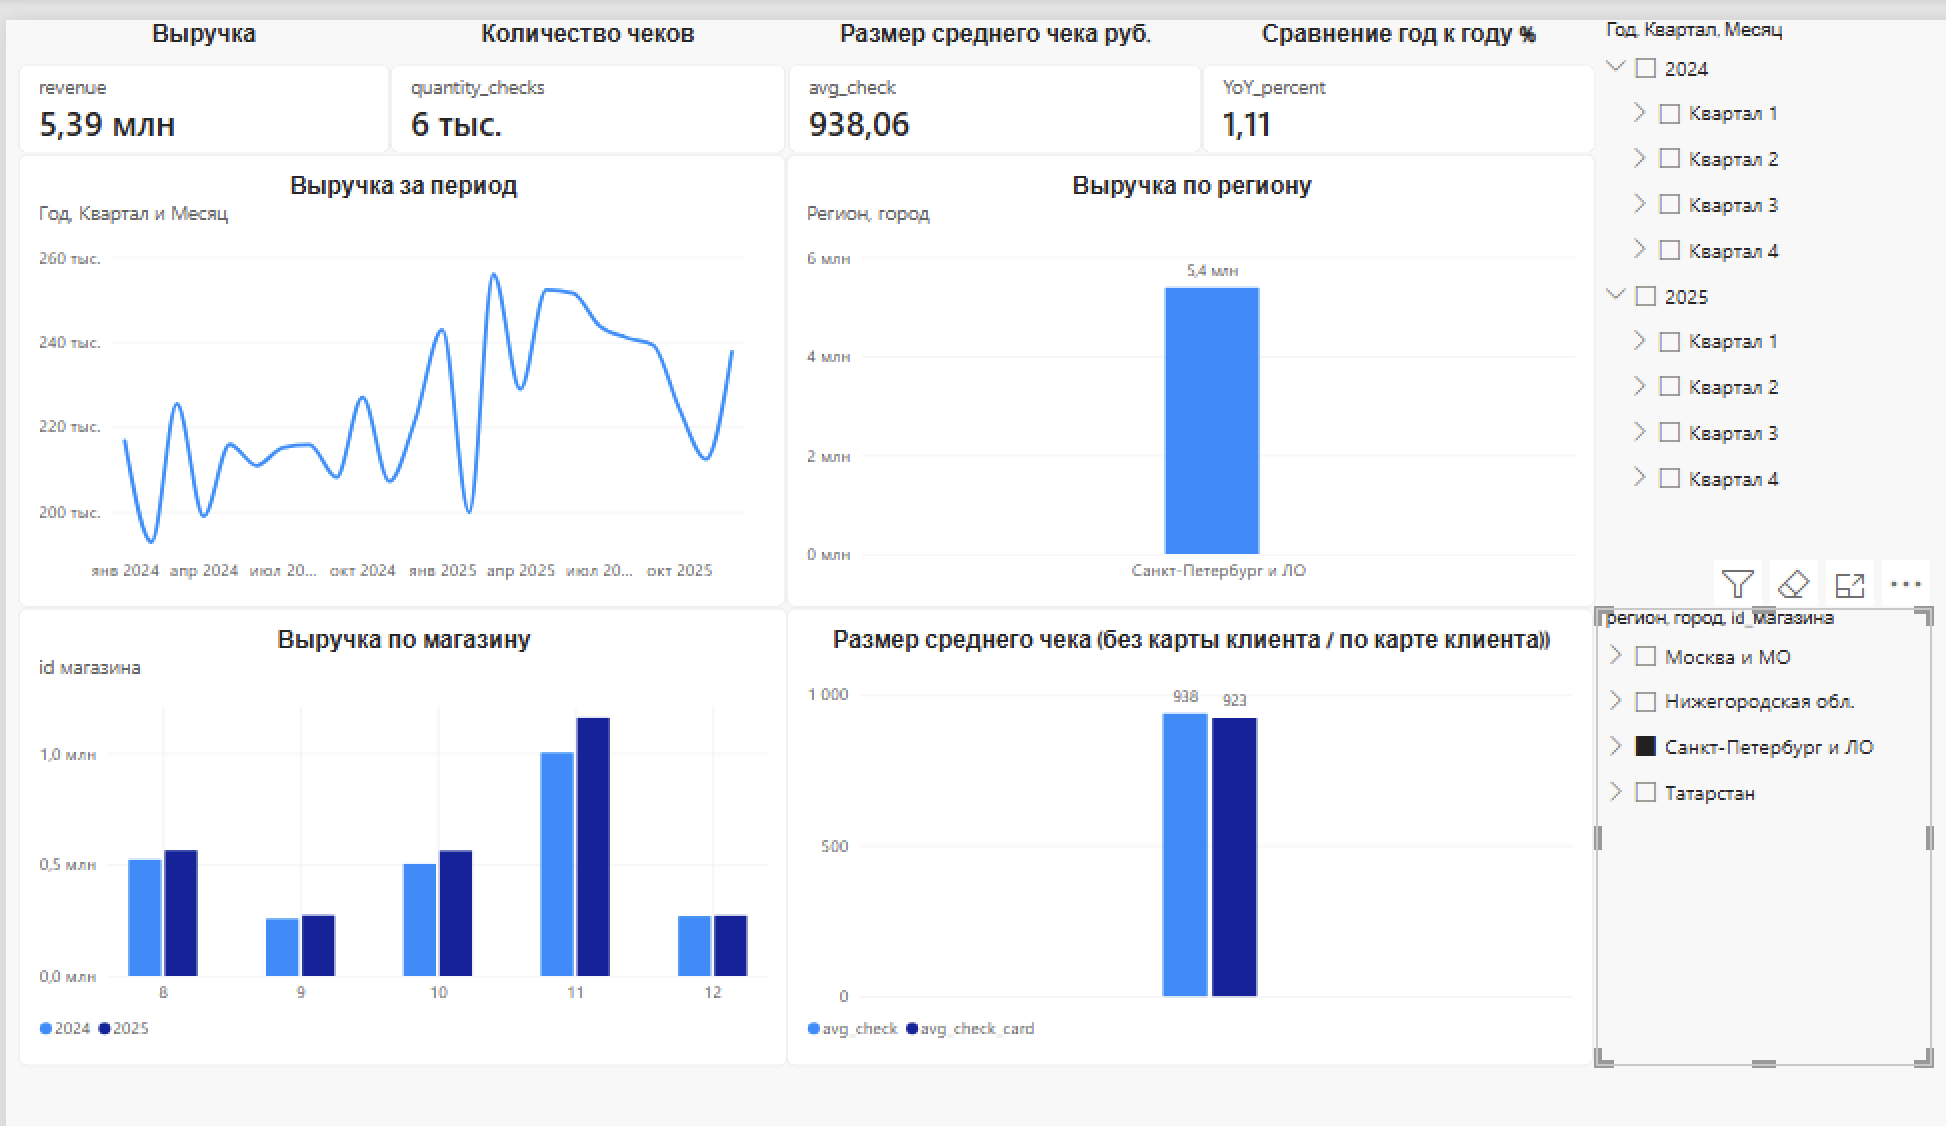

This screenshot's page, from the dashboard's own definition file:
{"tool":"powerbi","page":{"name":"Sales Sosedushka","canvas":[1920,1080],"ordinal":0},"visuals":[{"type":"cardVisual","title":"Выручка","fields":{"Data":["fact_sales.revenue"]},"box":[10,0,310,111.7],"z":0},{"type":"cardVisual","title":"Количество чеков","fields":{"Data":["fact_sales.quantity_checks"]},"box":[320,0,330,111.7],"z":1},{"type":"cardVisual","title":"Размер среднего чека руб.","fields":{"Data":["fact_sales.avg_check"]},"box":[651.7,0,345,111.7],"z":2},{"type":"cardVisual","title":"Сравнение год к году %","fields":{"Data":["fact_sales.YoY_percent"]},"box":[996.7,0,328.3,111.7],"z":3},{"type":"lineChart","title":"Выручка за период","fields":{"Category":["fact_sales.дата_время.Изменение.Иерархия дат.Год","fact_sales.дата_время.Изменение.Иерархия дат.Квартал","fact_sales.дата_время.Изменение.Иерархия дат.Месяц"],"Y":["fact_sales.revenue"]},"box":[10,111.7,640,378.3],"z":4},{"type":"clusteredColumnChart","title":"Выручка по магазину","fields":{"Category":["fact_sales.id_магазина"],"Series":["fact_sales.дата_время.Изменение.Иерархия дат.Год"],"Y":["fact_sales.revenue"]},"box":[10,490,641.7,381.7],"z":5},{"type":"clusteredColumnChart","title":"Размер среднего чека (без карты клиента / по карте клиента))","fields":{"Y":["fact_sales.avg_check","fact_sales.avg_check_card"]},"box":[650,490,673.3,381.7],"z":6},{"type":"clusteredColumnChart","title":"Выручка по региону","fields":{"Category":["dim_stores.регион","dim_stores.город"],"Y":["fact_sales.revenue"]},"box":[650,111.7,675,378.3],"z":7},{"type":"slicer","fields":{"Values":["dim_stores.регион","dim_stores.город","dim_stores.id_магазина"]},"box":[1325,490,280,381.7],"z":8},{"type":"slicer","fields":{"Values":["fact_sales.дата_время.Изменение.Иерархия дат.Год","fact_sales.дата_время.Изменение.Иерархия дат.Квартал","fact_sales.дата_время.Изменение.Иерархия дат.Месяц"]},"box":[1325,0,280,456.7],"z":9}]}

Visuals, with their boxes on the page's 1920x1080 design canvas (x1, y1, x2, y2). These are canvas units, not pixel positions in the 1946x1126 screenshot, which may show the page scaled, cropped or inside an application window:
"Выручка" cardVisual: 10:0:320:112
"Количество чеков" cardVisual: 320:0:650:112
"Размер среднего чека руб." cardVisual: 652:0:997:112
"Сравнение год к году %" cardVisual: 997:0:1325:112
"Выручка за период" lineChart: 10:112:650:490
"Выручка по магазину" clusteredColumnChart: 10:490:652:872
"Размер среднего чека (без карты клиента / по карте клиента))" clusteredColumnChart: 650:490:1323:872
"Выручка по региону" clusteredColumnChart: 650:112:1325:490
slicer - dim_stores.регион x dim_stores.город: 1325:490:1605:872
slicer - fact_sales.дата_время.Изменение.Иерархия дат.Год x fact_sales.дата_время.Изменение.Иерархия дат.Квартал: 1325:0:1605:457
